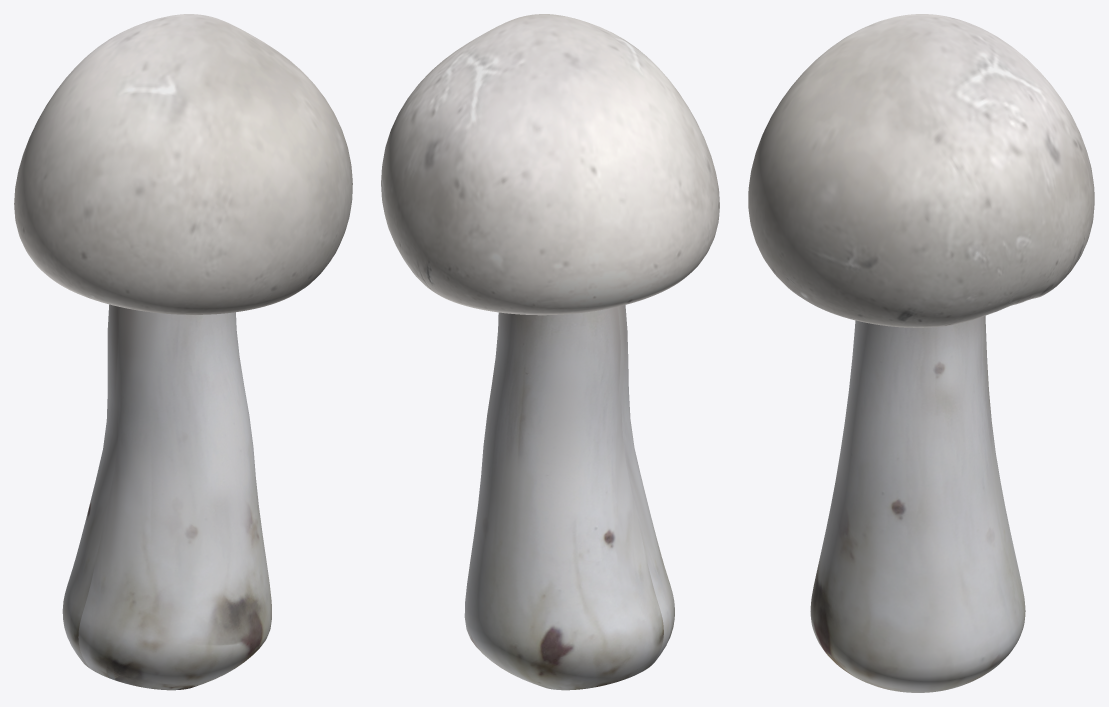
The model's file is SENE_02.fbx.
The picture shows the model from 3 angles, left to right: view 1: azimuth 30°, elevation 25°; view 2: azimuth 150°, elevation 25°; view 3: azimuth 270°, elevation 25°; orthographic projection. The views are drawn at different scales.
Visible parts, largest first — view 1: SENE_02; view 2: SENE_02; view 3: SENE_02.
Part boxes in pixels (<box>): SENE_02: <box>14,14,352,690</box>; SENE_02: <box>381,14,719,690</box>; SENE_02: <box>748,14,1094,692</box>.
Bounding box in the file's own units: 33.56 × 70.78 × 33.13.
Materials: 1 (1 with a texture image).
